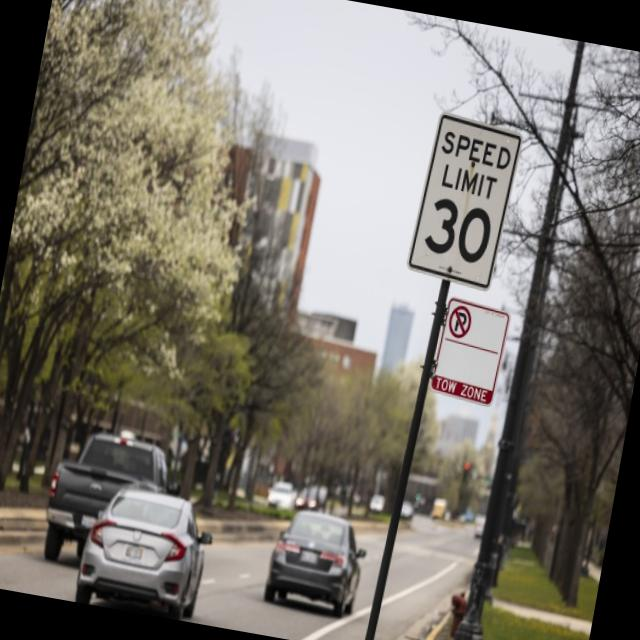30 MPH: (404, 108, 524, 294)
